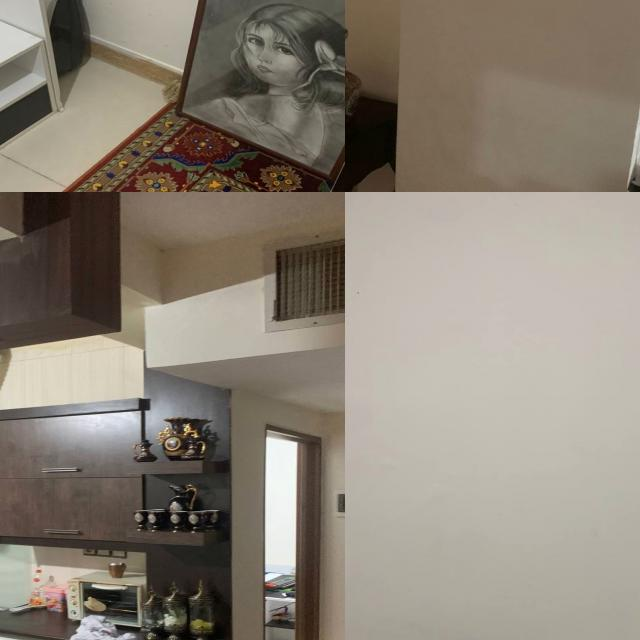Floor: (0, 42, 178, 192)
Wall: (345, 192, 640, 640), (234, 392, 345, 640), (0, 337, 145, 412), (263, 428, 302, 584)
